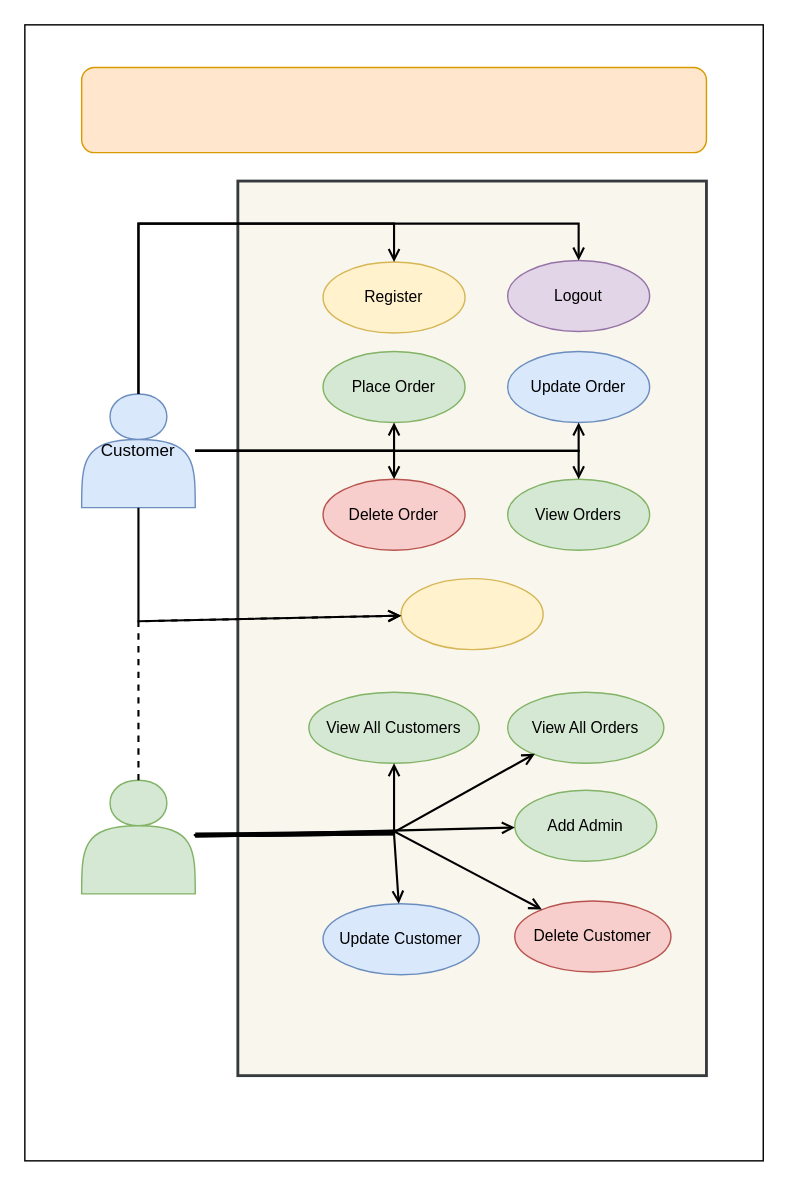
Some shapes in this 788 by 1186 pixel diagram are drawn without their labels. The centre of each missing label's shape, as x and y in pixels:
Admin: point (137, 836)
Cake Management System - Use Case Diagram: point (393, 109)
Login: point (471, 613)
